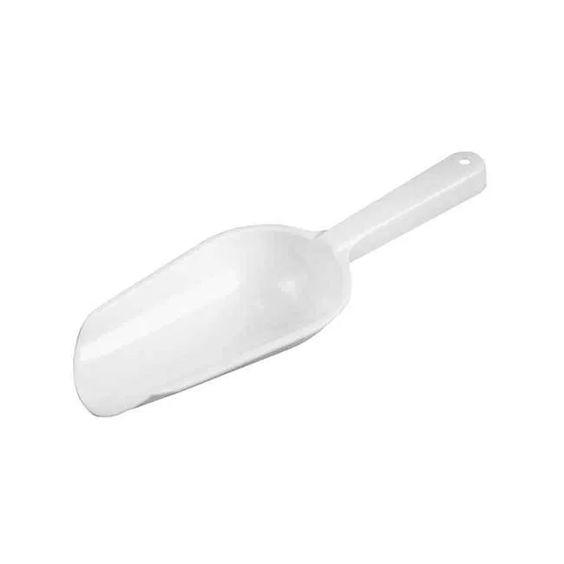PS: (70, 151, 485, 420)
